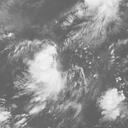cyclone: (25, 44, 72, 106)
